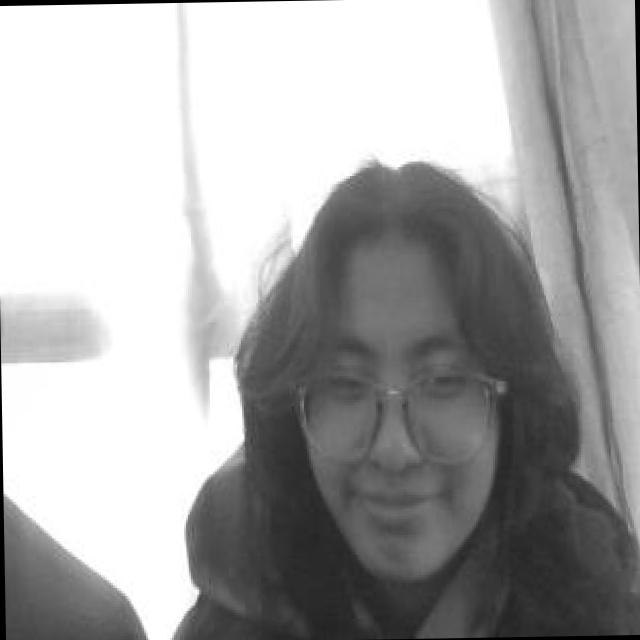Focused: (294, 305, 503, 571)
